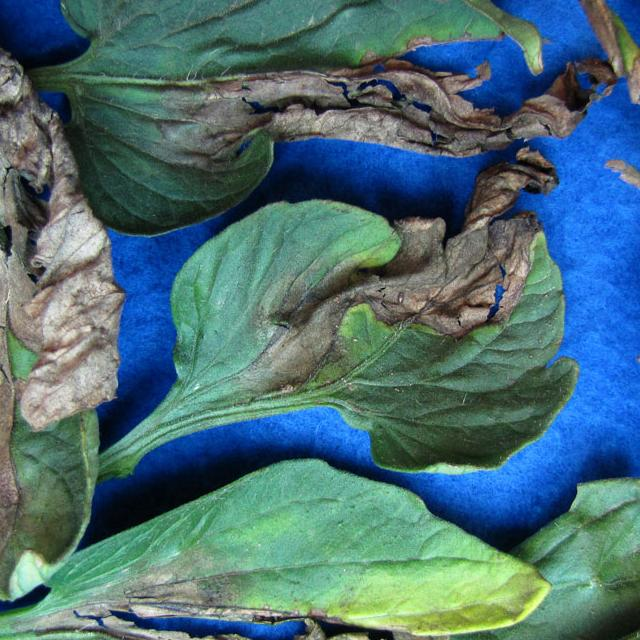Tomato leaf late blight: (0, 0, 587, 243), (121, 200, 592, 480), (0, 465, 524, 640), (0, 103, 129, 640), (616, 75, 640, 640)
